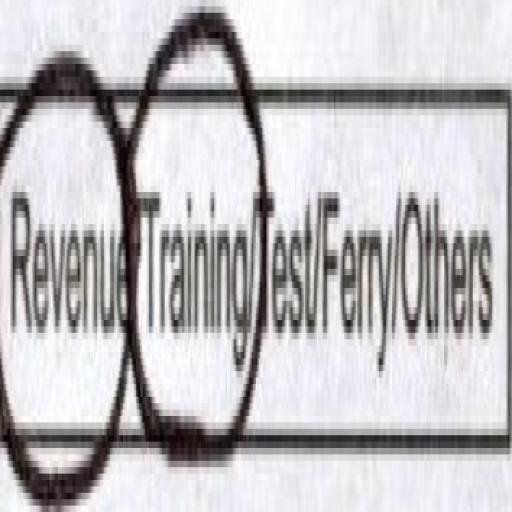check: (0, 6, 132, 512), (136, 0, 254, 512)
